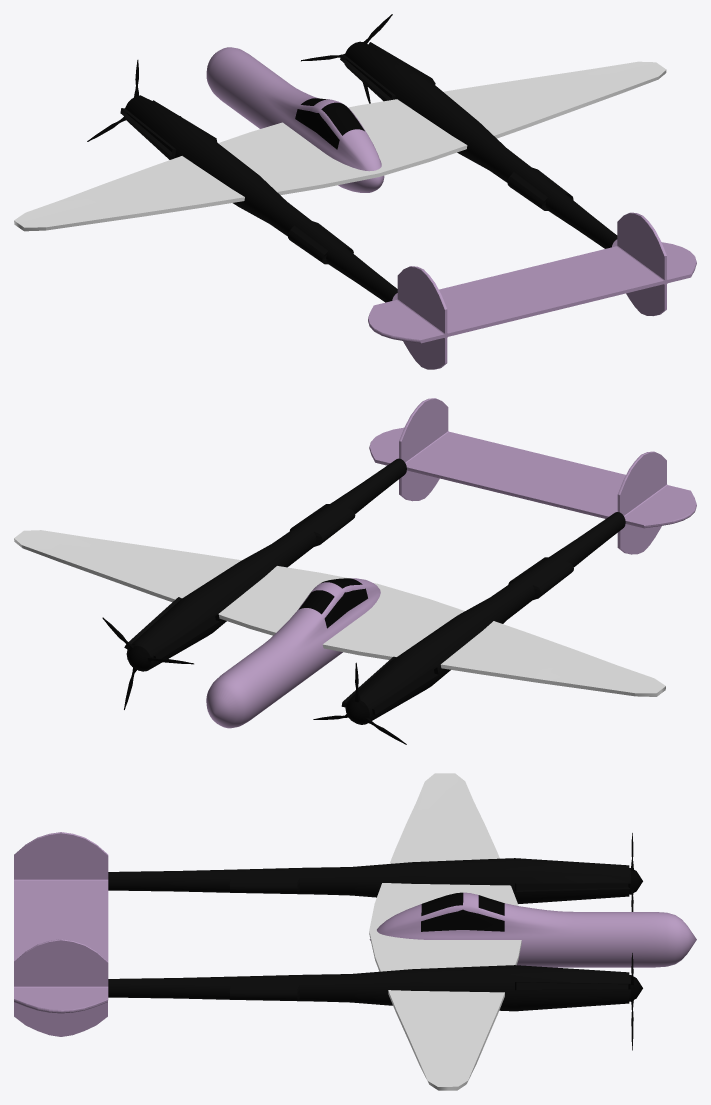
The picture shows the model from 3 angles, top to bottom: view 1: azimuth 30°, elevation 25°; view 2: azimuth 150°, elevation 25°; view 3: azimuth 270°, elevation 25°; orthographic projection.
Visible parts, largest first — view 1: Cylindre002, Boîte001, Cylindre003; view 2: Cylindre002, Boîte001, Cylindre003; view 3: Cylindre002, Boîte001, Cylindre003.
Boxes of the visible parts, left/top/right/bottom form: Cylindre002: left=87, top=14, right=696, bottom=369; Boîte001: left=14, top=61, right=666, bottom=231; Cylindre003: left=206, top=47, right=384, bottom=192; Cylindre002: left=102, top=398, right=696, bottom=744; Boîte001: left=14, top=530, right=665, bottom=696; Cylindre003: left=206, top=578, right=380, bottom=728; Cylindre002: left=14, top=832, right=642, bottom=1050; Boîte001: left=369, top=773, right=521, bottom=1090; Cylindre003: left=369, top=892, right=696, bottom=967.
Bounding box in the file's own units: 77.29 × 11.99 × 71.1.
